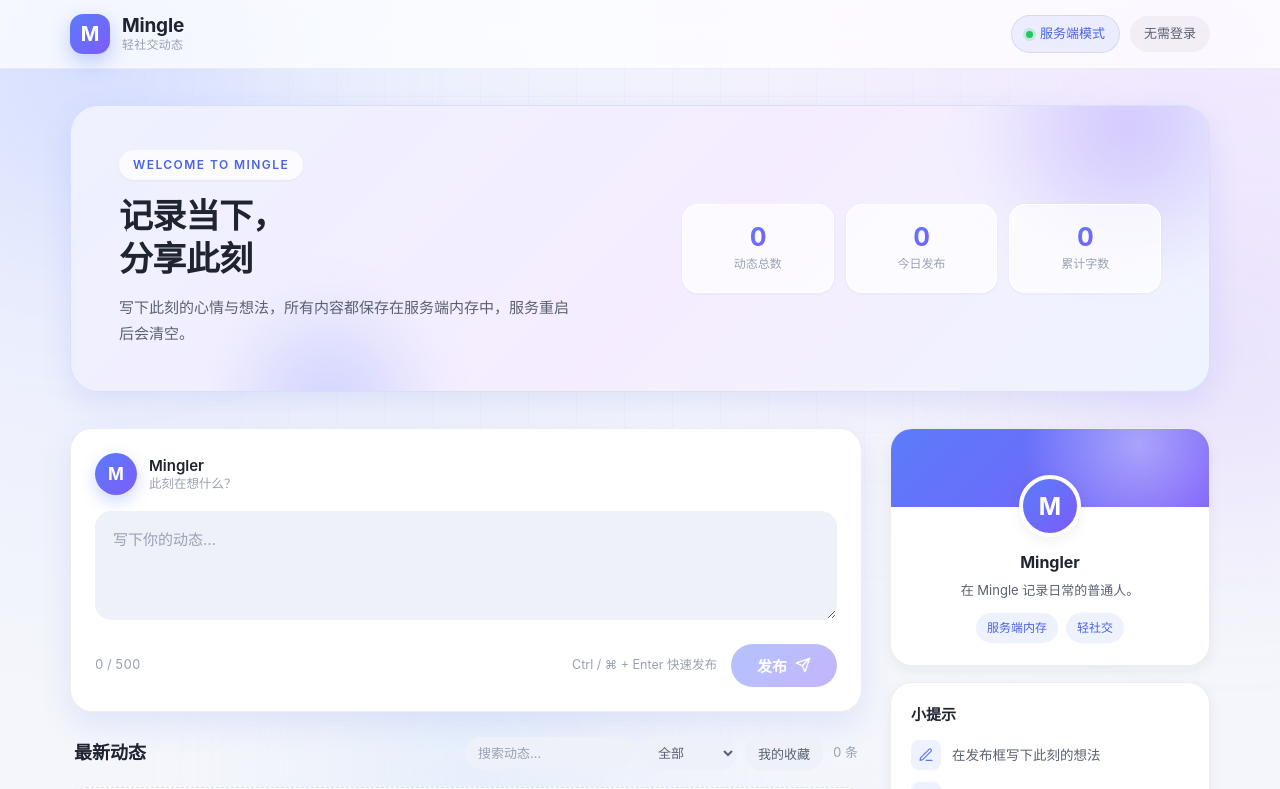
Test: App › 多条动态按时间倒序展示
Type "第一条" into the text box with placeholder "写下你的动态…" at (466, 566), box [95,511,837,620]
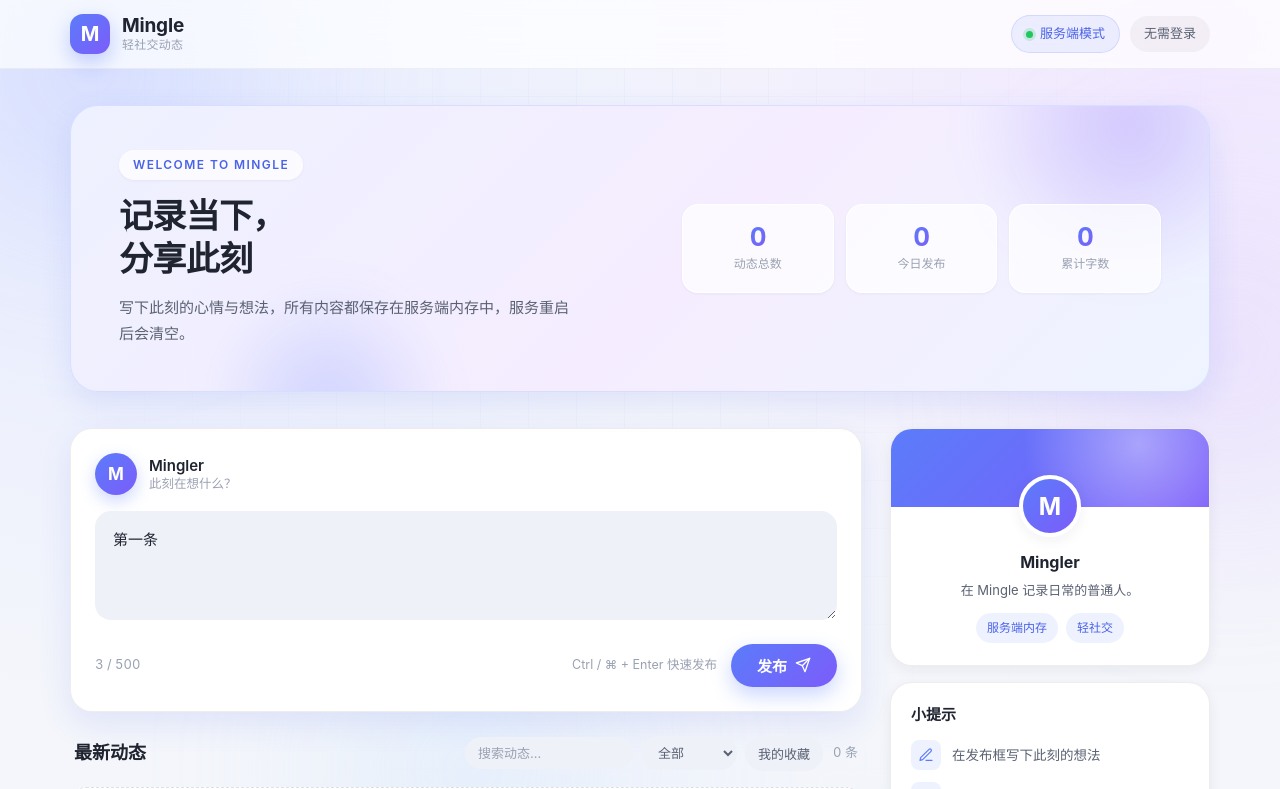
Click the button with class "composer__submit" at (784, 665), box [731,644,837,687]
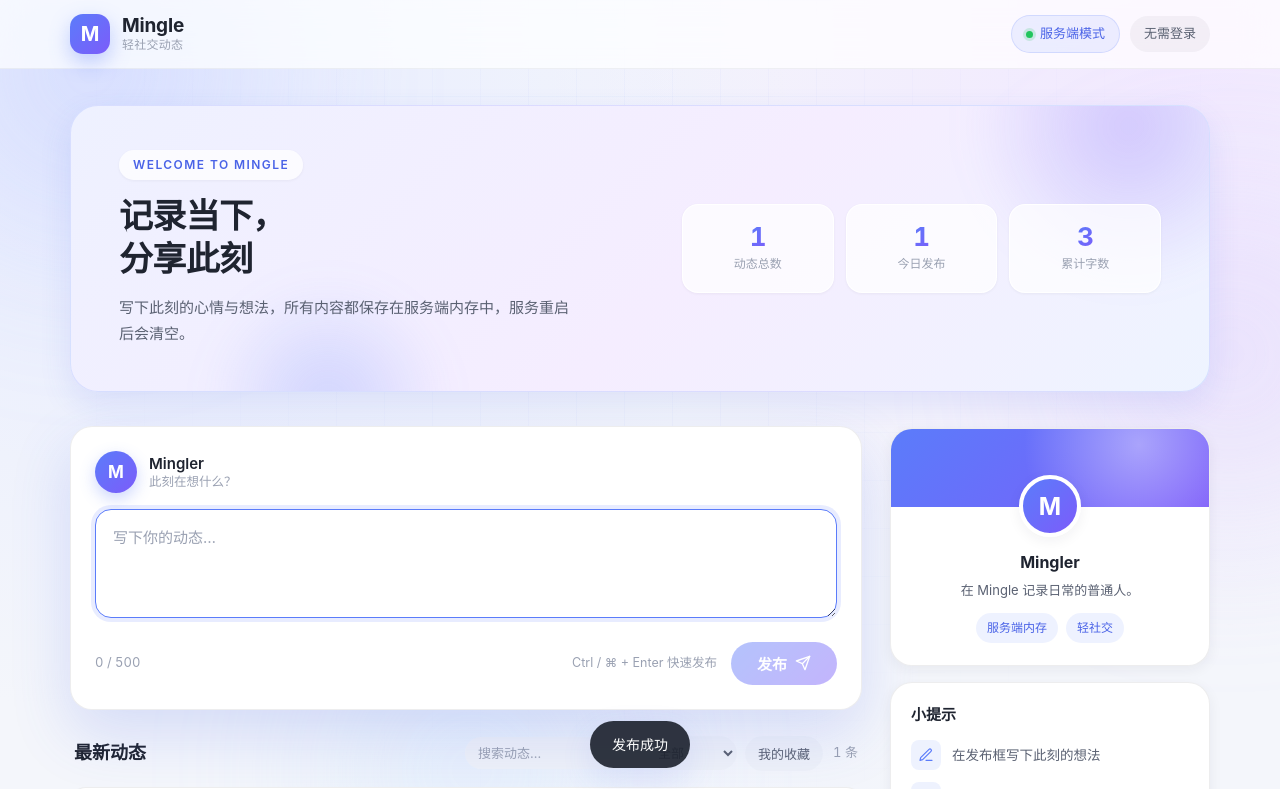
Type "第二条" into the text box with placeholder "写下你的动态…" at (466, 564), box [95,509,837,618]
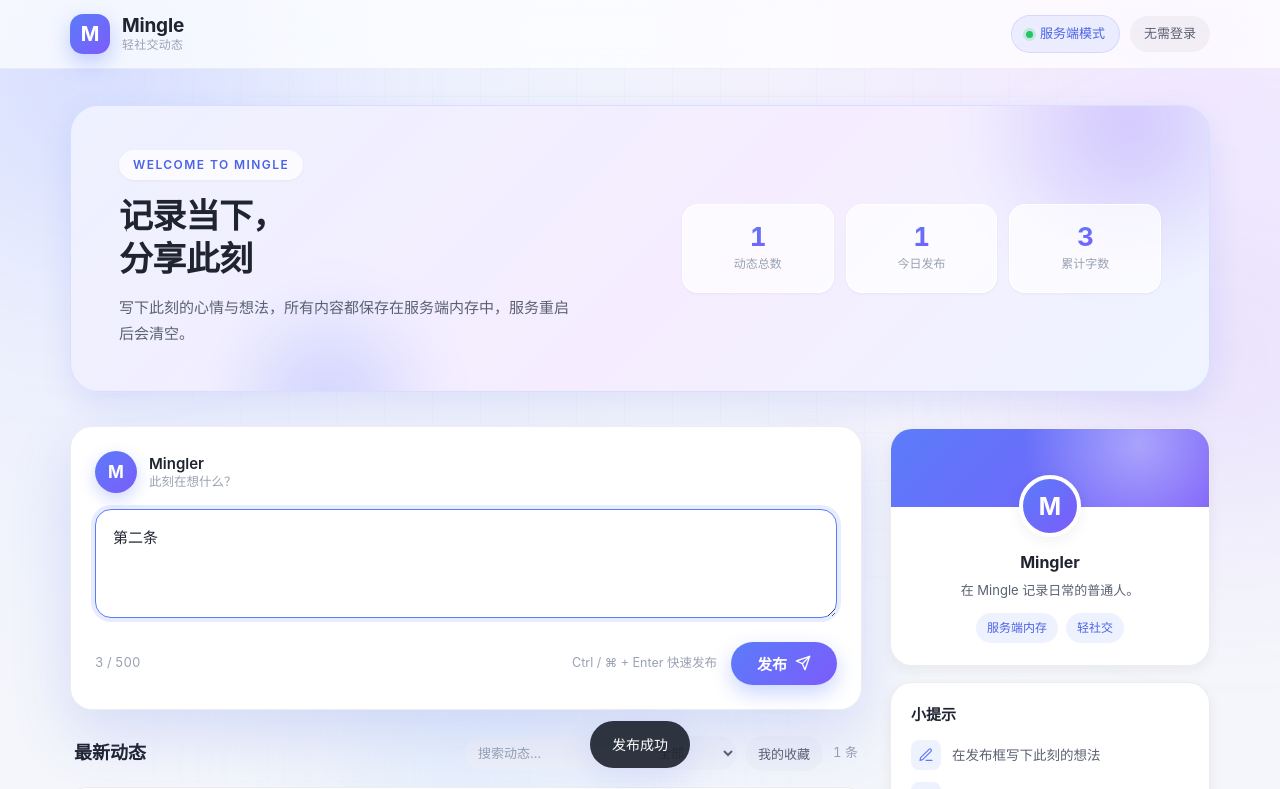
Click the button with class "composer__submit" at (784, 663), box [731,642,837,685]
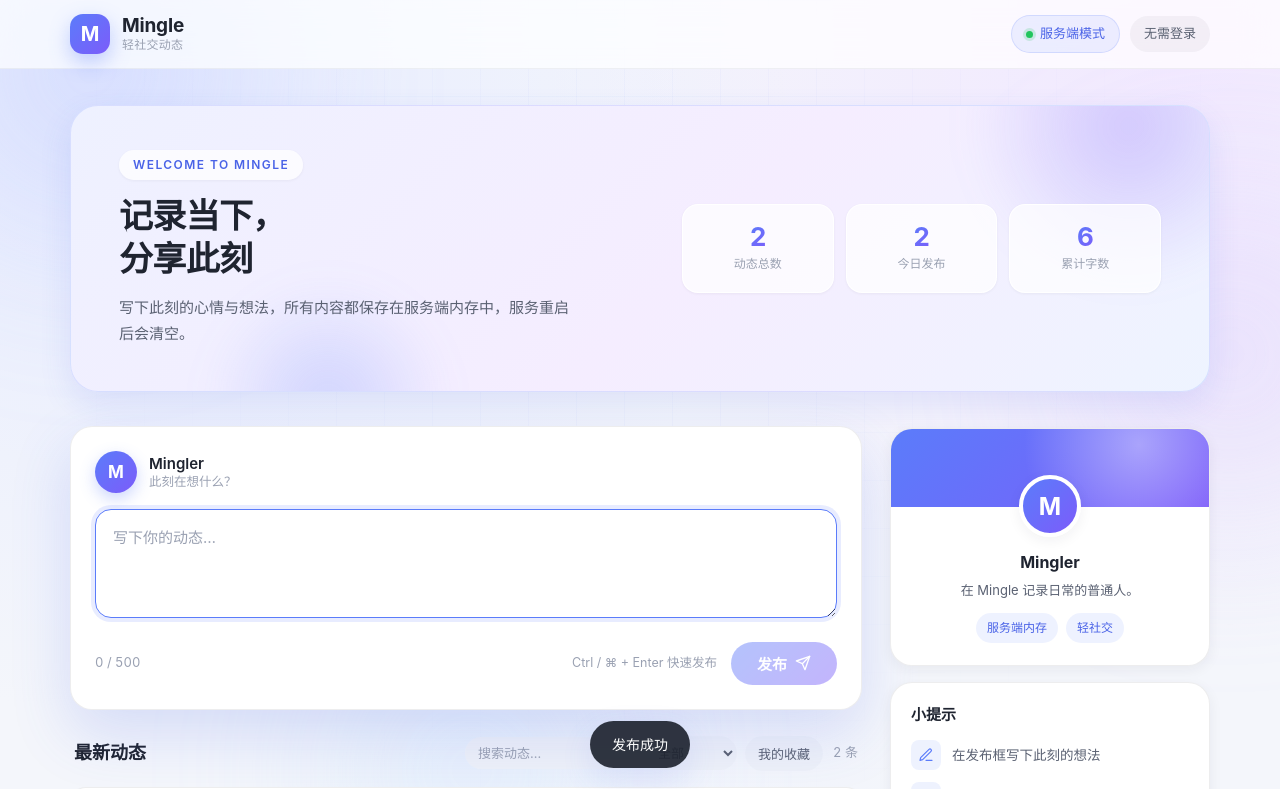
Check: the text with class "feed__count" reads "2 条", box [833,744,858,760]
